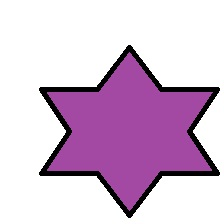star: (39, 44, 221, 218)
